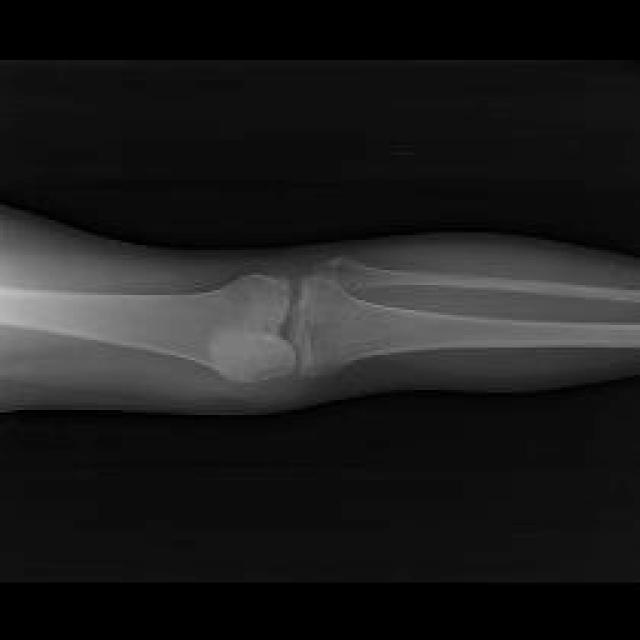normal: (1, 274, 292, 380), (301, 281, 639, 372), (318, 262, 639, 302)
